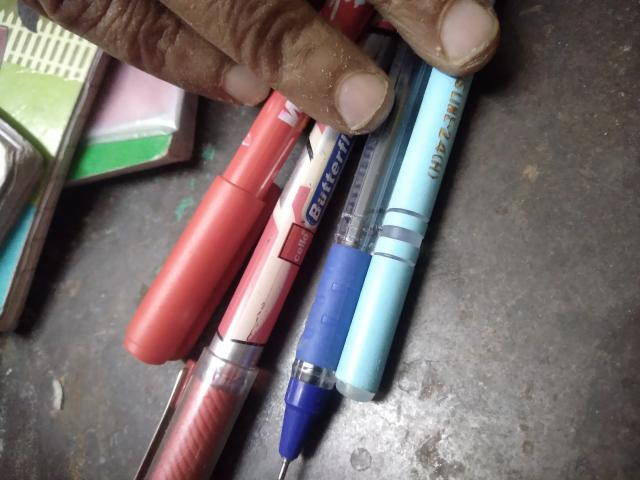PEN: (66, 73, 507, 407), (0, 263, 480, 480)
